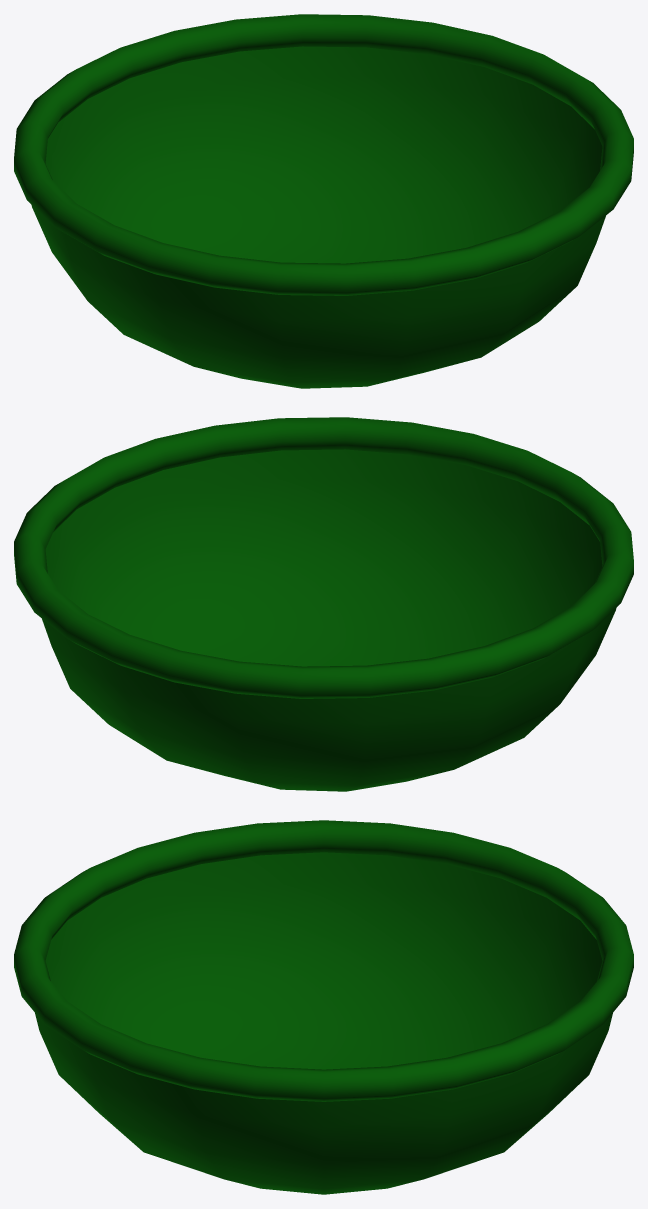
Rendered from jug14.FBX.
The picture shows the model from 3 angles, top to bottom: view 1: azimuth 30°, elevation 25°; view 2: azimuth 150°, elevation 25°; view 3: azimuth 270°, elevation 25°; orthographic projection.
Visible parts, largest first — view 1: SM_jug14_0; view 2: SM_jug14_0; view 3: SM_jug14_0.
Part boxes in pixels (x1=…): SM_jug14_0: x1=14, y1=14, x2=633, y2=388; SM_jug14_0: x1=14, y1=417, x2=633, y2=791; SM_jug14_0: x1=14, y1=820, x2=633, y2=1194.
Bounding box in the file's own units: 28.13 × 28.12 × 9.34.
